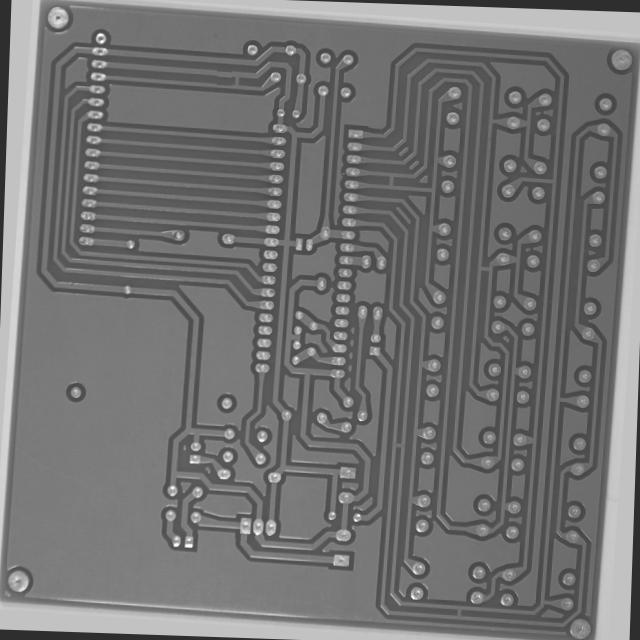short: (379, 161, 398, 186), (215, 64, 232, 86), (465, 605, 482, 627), (478, 252, 499, 269), (395, 437, 412, 452)
